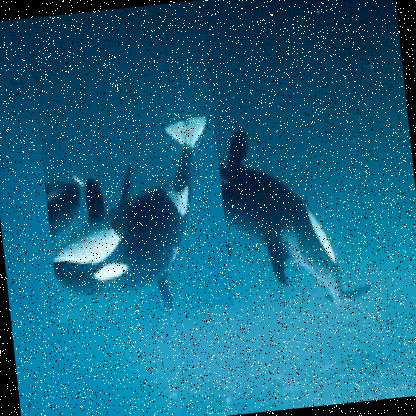killer_whale: (30, 31, 234, 323), (172, 86, 374, 320)
